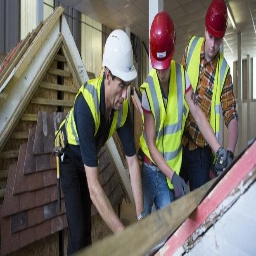helmet: (102, 28, 138, 89), (149, 10, 179, 75), (206, 1, 228, 43)
person: (53, 25, 146, 256), (138, 7, 200, 231), (189, 1, 242, 189)
vest: (58, 71, 136, 176), (186, 33, 238, 185), (142, 66, 194, 179)
